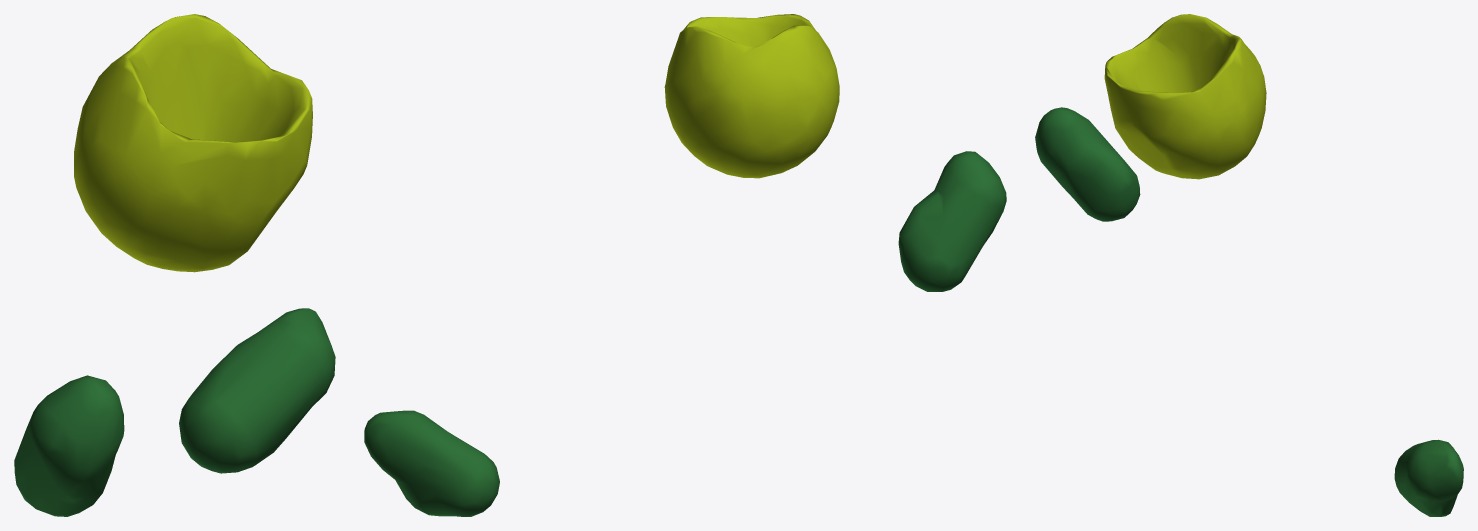
Rendered from ss_petals4.gltf.
The picture shows the model from 3 angles, left to right: view 1: azimuth 30°, elevation 25°; view 2: azimuth 150°, elevation 25°; view 3: azimuth 270°, elevation 25°; orthographic projection. The views are drawn at different scales.
Visible parts, largest first — view 1: Layer_1.004; view 2: Layer_1.004; view 3: Layer_1.004.
Boxes of the visible parts, left/top/right/bottom form: Layer_1.004: left=14, top=14, right=335, bottom=516; Layer_1.004: left=364, top=14, right=1006, bottom=516; Layer_1.004: left=1035, top=14, right=1463, bottom=516.
Bounding box in the file's own units: 1.01 × 1.02 × 0.9796.
